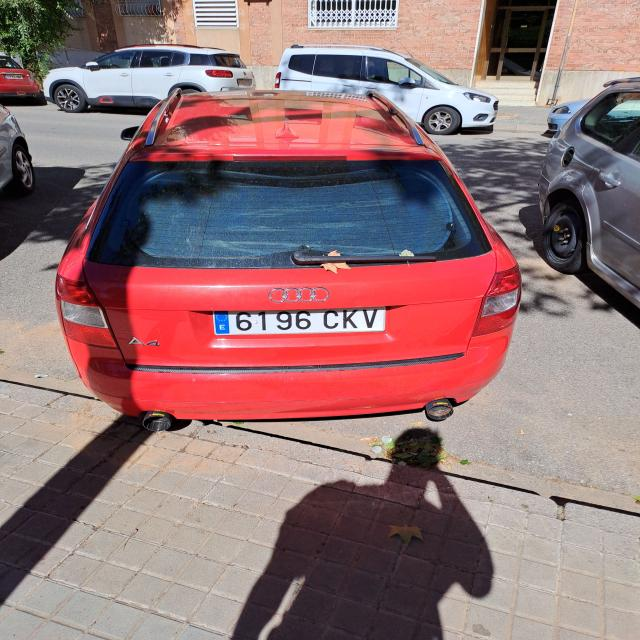license_plate-34Td: (214, 308, 385, 335)
